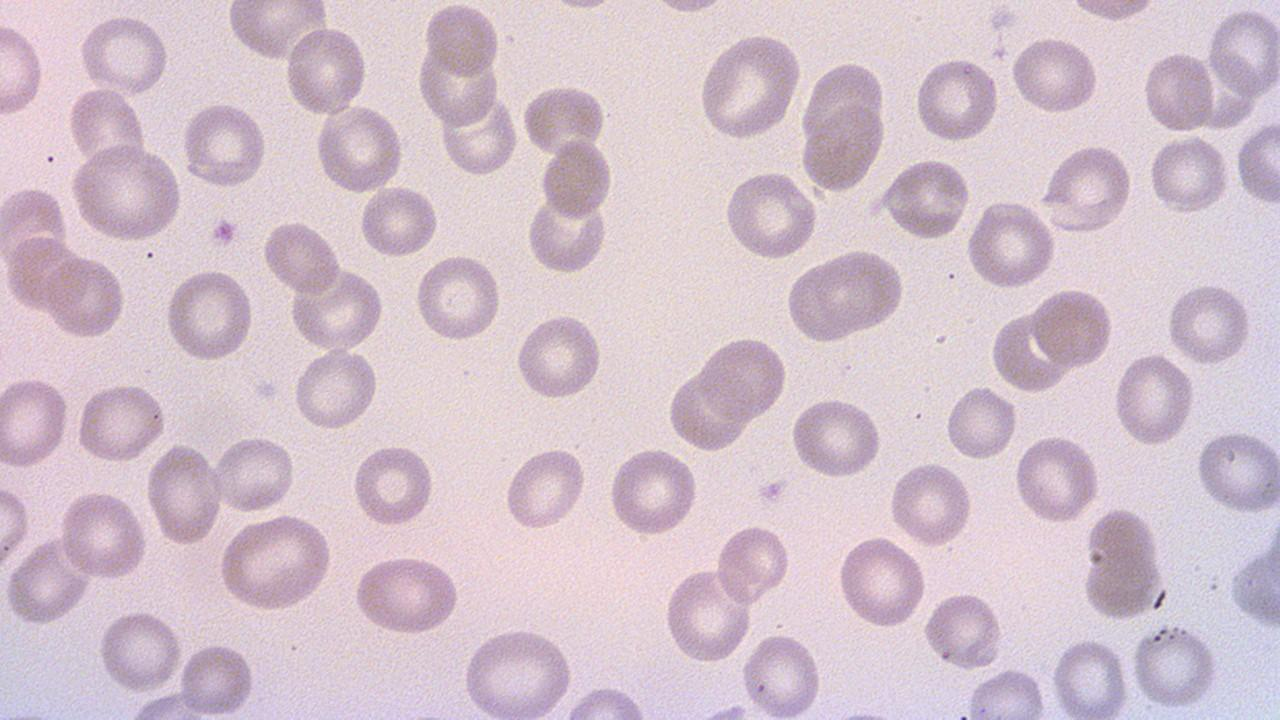Platelets: (210, 216, 242, 249), (754, 479, 788, 506)
RBC: (215, 512, 336, 612), (695, 30, 803, 142), (68, 141, 184, 244), (459, 622, 578, 718), (798, 246, 910, 341), (1078, 508, 1168, 622), (349, 553, 464, 636), (162, 266, 255, 365), (720, 168, 820, 260), (834, 533, 926, 633), (662, 564, 752, 666), (606, 444, 700, 538), (1037, 142, 1135, 232), (144, 440, 226, 547), (963, 200, 1058, 291), (58, 488, 148, 582), (2, 534, 91, 628), (287, 266, 385, 351), (1130, 620, 1220, 712), (314, 102, 404, 194), (1013, 432, 1101, 526), (1112, 350, 1196, 448), (514, 310, 604, 401), (799, 100, 886, 194), (282, 24, 369, 118), (414, 252, 503, 343), (912, 54, 1000, 145), (789, 396, 884, 480), (181, 99, 269, 189), (888, 458, 974, 550), (95, 606, 184, 694), (698, 333, 788, 420), (525, 184, 610, 276), (1008, 33, 1101, 117), (75, 380, 167, 464), (77, 12, 170, 95), (502, 445, 589, 533), (740, 628, 824, 718), (880, 158, 972, 240), (1194, 428, 1280, 514), (1166, 280, 1252, 366), (43, 252, 127, 340), (351, 442, 436, 528), (666, 367, 750, 454), (290, 347, 378, 430), (519, 80, 611, 158), (0, 373, 72, 472), (922, 588, 1006, 672), (1032, 287, 1114, 372), (1148, 132, 1230, 217), (990, 307, 1070, 394), (212, 432, 299, 512), (1207, 7, 1279, 102), (438, 92, 518, 177), (2, 230, 83, 313), (1051, 634, 1131, 718), (67, 85, 147, 168), (1141, 47, 1215, 136), (177, 638, 258, 717), (261, 218, 342, 296), (358, 183, 440, 260), (540, 137, 616, 219), (715, 522, 791, 604), (423, 0, 500, 79), (944, 382, 1018, 462), (226, 2, 324, 62), (1227, 534, 1279, 634), (0, 16, 47, 121), (962, 666, 1049, 717), (1234, 121, 1280, 207), (0, 478, 31, 576), (1062, 0, 1162, 24)
